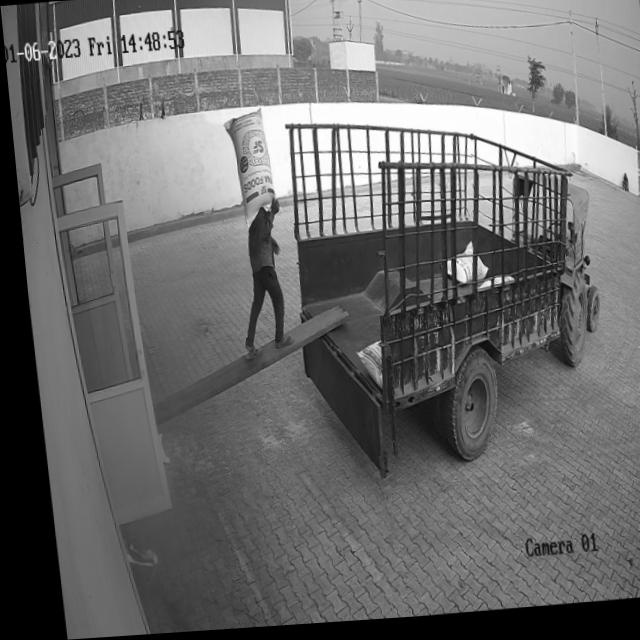sack: (219, 109, 274, 231)
